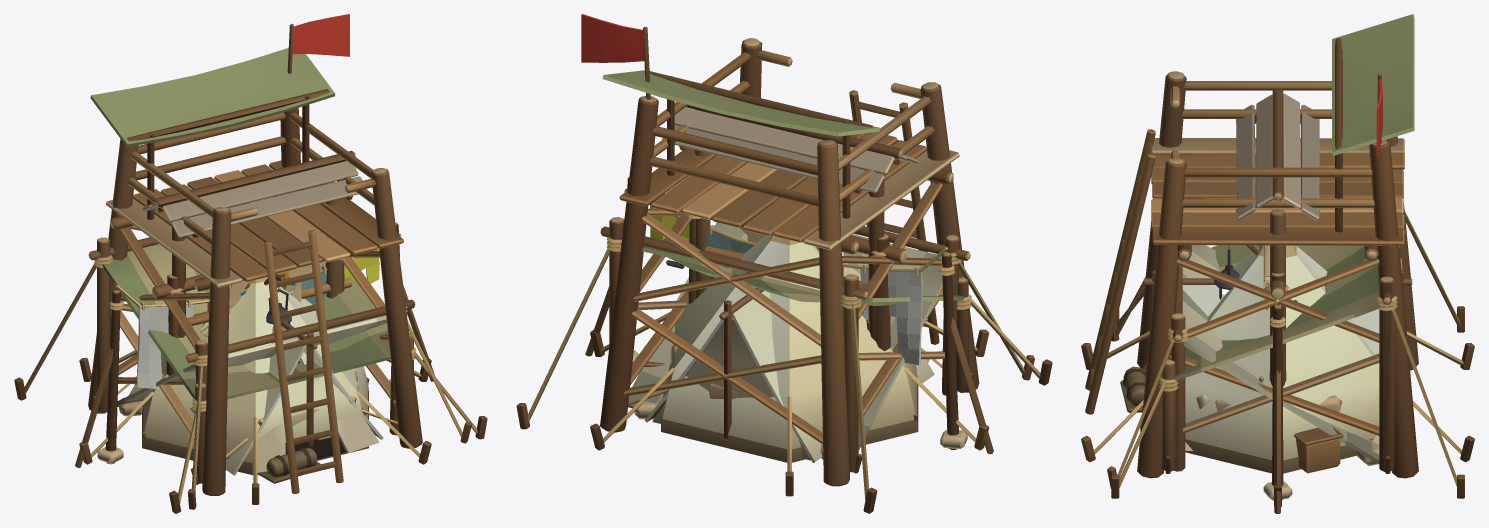
File: camp.glb
3 renders of one model, left to right at view 1: azimuth 30°, elevation 25°; view 2: azimuth 150°, elevation 25°; view 3: azimuth 270°, elevation 25°, orthographic. The views are drawn at different scales.
Parts seen in each view (by area): view 1: watchtower__matte, tent_a__matte, tarp__matte, well__matte, lean_to__matte, washing_line__matte, tent_b__matte, watchtower__flag, gate__matte; view 2: watchtower__matte, tent_a__matte, tarp__matte, well__matte, washing_line__matte, tent_b__matte, lean_to__matte, watchtower__flag, gate__matte; view 3: watchtower__matte, tent_a__matte, tarp__matte, well__matte, lean_to__matte, washing_line__matte, tent_b__matte, crate_stack__matte, gate__matte.
Part boxes in pixels (x1=…): watchtower__matte: x1=88, y1=23, x2=422, y2=495; tent_a__matte: x1=79, y1=277, x2=431, y2=504; tarp__matte: x1=14, y1=223, x2=487, y2=513; well__matte: x1=142, y1=150, x2=367, y2=426; lean_to__matte: x1=117, y1=293, x2=471, y2=509; washing_line__matte: x1=75, y1=222, x2=434, y2=467; tent_b__matte: x1=92, y1=321, x2=397, y2=484; watchtower__flag: x1=292, y1=14, x2=349, y2=56; gate__matte: x1=152, y1=244, x2=344, y2=375; watchtower__matte: x1=600, y1=26, x2=979, y2=486; tent_a__matte: x1=590, y1=235, x2=989, y2=496; tarp__matte: x1=516, y1=217, x2=1052, y2=513; well__matte: x1=662, y1=105, x2=917, y2=398; washing_line__matte: x1=585, y1=177, x2=993, y2=454; tent_b__matte: x1=628, y1=233, x2=973, y2=473; lean_to__matte: x1=628, y1=222, x2=1034, y2=459; watchtower__flag: x1=581, y1=14, x2=644, y2=62; gate__matte: x1=687, y1=212, x2=906, y2=351; watchtower__matte: x1=1085, y1=14, x2=1418, y2=478; tent_a__matte: x1=1081, y1=245, x2=1474, y2=506; tarp__matte: x1=1111, y1=211, x2=1464, y2=498; well__matte: x1=1196, y1=90, x2=1352, y2=420; lean_to__matte: x1=1107, y1=245, x2=1379, y2=488; washing_line__matte: x1=1263, y1=299, x2=1292, y2=513; tent_b__matte: x1=1143, y1=269, x2=1412, y2=473; crate_stack__matte: x1=1294, y1=426, x2=1343, y2=473; gate__matte: x1=1265, y1=273, x2=1289, y2=386.
Size of the model in its own units: 5.71 by 5.32 by 4.84.
